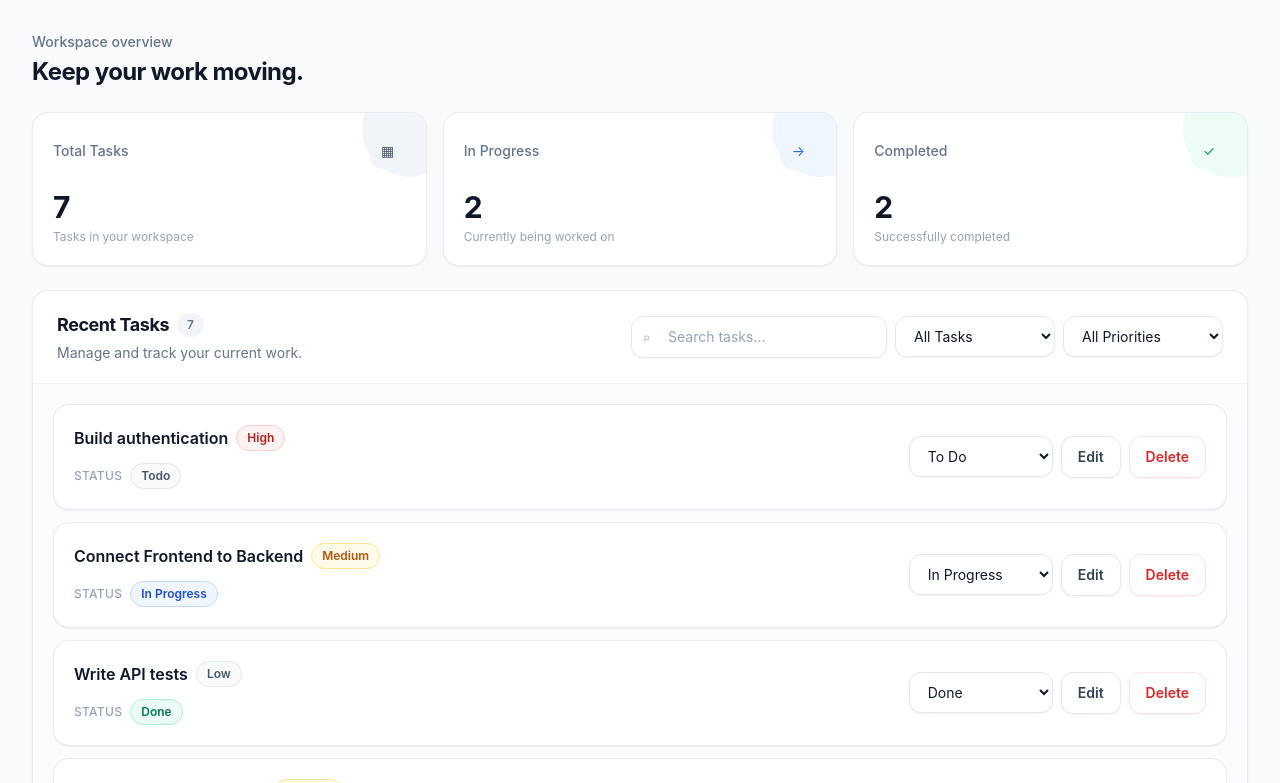
Test case: Dashboard › filters tasks by search term
The width and height of the screenshot is (1280, 783).
Type "authentication" into the search field labelled "Search tasks". click: (759, 337)
box: [631,316,887,358]
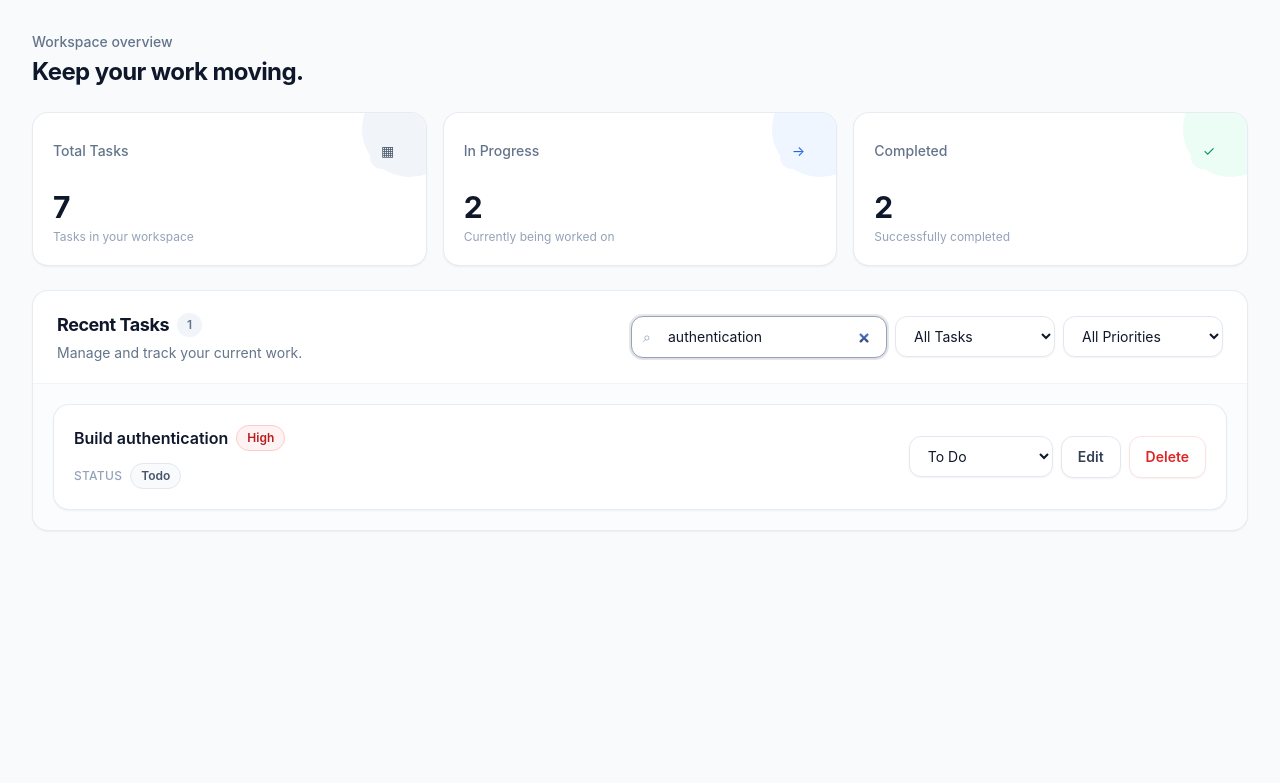
Expected: the text "Build authentication" is shown, [74,426,228,450]
Expected: the text "Connect Frontend to Backend" is gone
